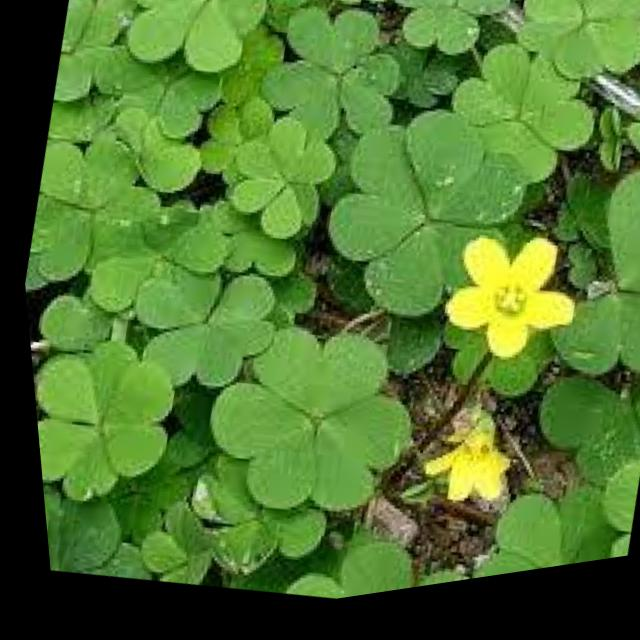Flower: (424, 228, 587, 397), (399, 404, 540, 546)
